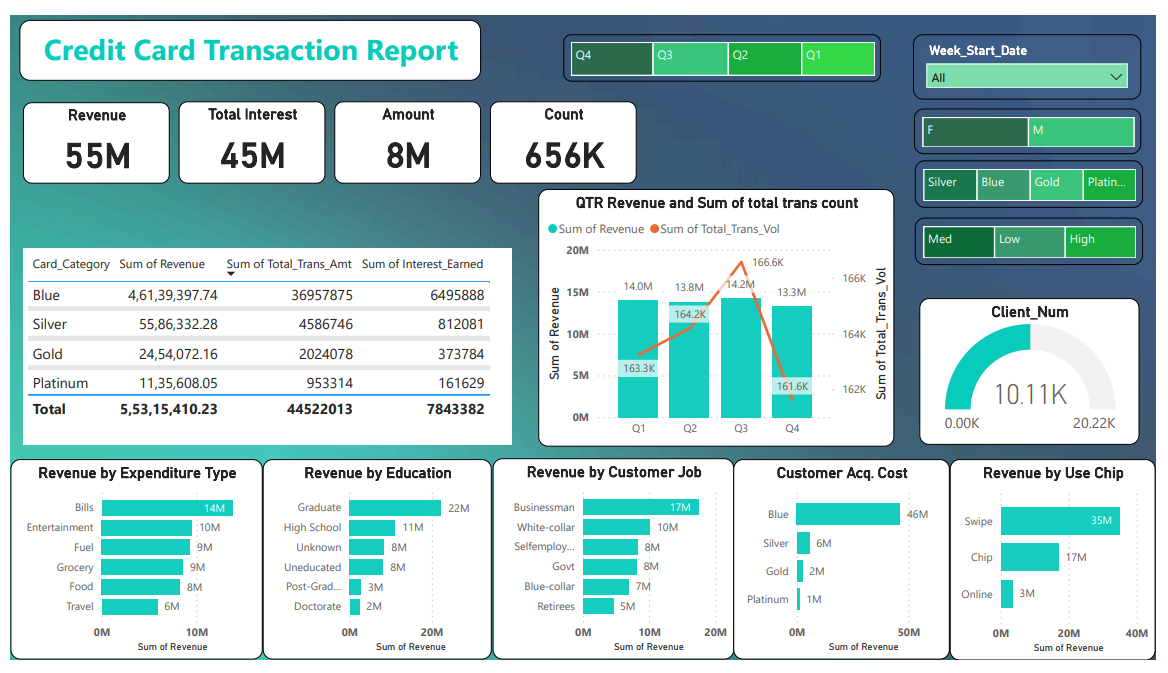

This screenshot's page, from the dashboard's own definition file:
{"tool":"powerbi","page":{"name":"CC_Trans","canvas":[1280,720],"ordinal":0},"visuals":[{"type":"textbox","box":[9.5,4.8,516.9,68.4],"z":0},{"type":"lineStackedColumnComboChart","title":"QTR Revenue and Sum of total trans count","fields":{"Category":["credit_card.Qtr"],"Y":["Sum(credit_card.Revenue)"],"Y2":["Sum(credit_card.Total_Trans_Vol)"]},"box":[590,194,398,288],"z":1000},{"type":"barChart","title":"Revenue by Expenditure Type","fields":{"Y":["Sum(credit_card.Revenue)"],"Category":["credit_card.Exp Type"]},"box":[0,496,282,224],"z":2000},{"type":"barChart","title":"Revenue by Education","fields":{"Y":["Sum(credit_card.Revenue)"],"Category":["customer.Education_Level"]},"box":[282,496,256,224],"z":3000},{"type":"barChart","title":"Revenue by Customer Job","fields":{"Y":["Sum(credit_card.Revenue)"],"Category":["customer.Customer_Job"]},"box":[538.6,495.1,270.2,224.9],"z":4000},{"type":"barChart","title":"Customer Acq. Cost","fields":{"Y":["Sum(credit_card.Revenue)"],"Category":["credit_card.Card_Category"]},"box":[808,496,242,224],"z":5000},{"type":"barChart","title":"Revenue by Use Chip","fields":{"Y":["Sum(credit_card.Revenue)"],"Category":["credit_card.Use Chip"]},"box":[1049.8,496.3,230.6,224.3],"z":6000},{"type":"tableEx","fields":{"Values":["credit_card.Card_Category","Sum(credit_card.Revenue)","Sum(credit_card.Total_Trans_Amt)","Sum(credit_card.Interest_Earned)"]},"box":[14,260,546,220],"z":7000},{"type":"card","title":"Revenue","fields":{"Values":["Sum(credit_card.Revenue)"]},"box":[14.3,97,163.8,90.7],"z":8000},{"type":"card","title":"Total Interest","fields":{"Values":["Sum(credit_card.Total_Trans_Amt)"]},"box":[188,96,164,92],"z":9000},{"type":"card","title":"Amount","fields":{"Values":["Sum(credit_card.Interest_Earned)"]},"box":[362,96,164,92],"z":10000},{"type":"card","title":"Count","fields":{"Values":["Sum(credit_card.Total_Trans_Vol)"]},"box":[536,96,164,92],"z":11000},{"type":"slicer","fields":{"Values":["credit_card.Week_Start_Date"]},"box":[1009.1,20.8,255.1,73.7],"z":12000},{"type":"treemap","fields":{"Group":["credit_card.Qtr"],"Values":["Avg(customer.Client_Num)"]},"box":[618,20.8,355.3,52.9],"z":13000},{"type":"treemap","fields":{"Group":["customer.Gender"],"Values":["Avg(customer.Client_Num)"]},"box":[1010,103.6,253.6,51.8],"z":14000},{"type":"treemap","fields":{"Group":["credit_card.Card_Category","customer.IncomeGroup"],"Values":["Avg(customer.Client_Num)"]},"box":[1010.9,161.8,255.5,52.7],"z":15000},{"type":"treemap","fields":{"Group":["customer.IncomeGroup"],"Values":["Avg(customer.Client_Num)"]},"box":[1010.9,226.4,255.5,52.7],"z":16000},{"type":"gauge","title":"Client_Num","fields":{"Y":["CountNonNull(credit_card.Client_Num)"]},"box":[1016,316,246,164],"z":17000}]}

Visuals, with their boxes in screenshot pixels (x1, y1, x2, y2), scaled from the page's 1280x720 canvas onto the 1168x673 screenshot:
textbox: {"left": 9, "top": 4, "right": 480, "bottom": 68}
"QTR Revenue and Sum of total trans count" lineStackedColumnComboChart: {"left": 538, "top": 181, "right": 902, "bottom": 451}
"Revenue by Expenditure Type" barChart: {"left": 0, "top": 464, "right": 257, "bottom": 672}
"Revenue by Education" barChart: {"left": 257, "top": 464, "right": 491, "bottom": 672}
"Revenue by Customer Job" barChart: {"left": 491, "top": 463, "right": 738, "bottom": 672}
"Customer Acq. Cost" barChart: {"left": 737, "top": 464, "right": 958, "bottom": 672}
"Revenue by Use Chip" barChart: {"left": 958, "top": 464, "right": 1167, "bottom": 672}
tableEx - credit_card.Card_Category x Sum(credit_card.Revenue): {"left": 13, "top": 243, "right": 511, "bottom": 449}
"Revenue" card: {"left": 13, "top": 91, "right": 163, "bottom": 175}
"Total Interest" card: {"left": 172, "top": 90, "right": 321, "bottom": 176}
"Amount" card: {"left": 330, "top": 90, "right": 480, "bottom": 176}
"Count" card: {"left": 489, "top": 90, "right": 639, "bottom": 176}
slicer - credit_card.Week_Start_Date: {"left": 921, "top": 19, "right": 1154, "bottom": 88}
treemap - credit_card.Qtr x Avg(customer.Client_Num): {"left": 564, "top": 19, "right": 888, "bottom": 69}
treemap - customer.Gender x Avg(customer.Client_Num): {"left": 922, "top": 97, "right": 1153, "bottom": 145}
treemap - credit_card.Card_Category x customer.IncomeGroup: {"left": 922, "top": 151, "right": 1156, "bottom": 200}
treemap - customer.IncomeGroup x Avg(customer.Client_Num): {"left": 922, "top": 212, "right": 1156, "bottom": 261}
"Client_Num" gauge: {"left": 927, "top": 295, "right": 1152, "bottom": 449}
